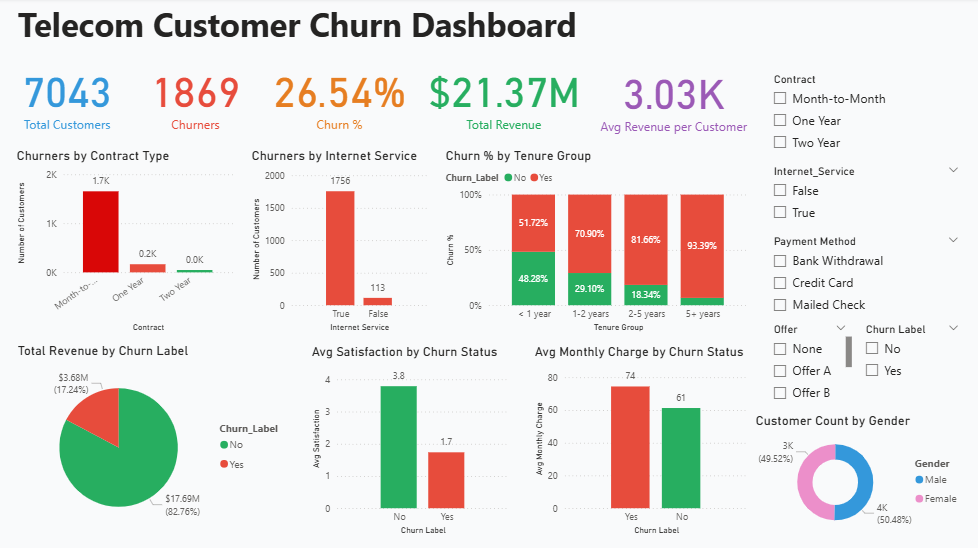

This screenshot's page, from the dashboard's own definition file:
{"tool":"powerbi","page":{"name":"Page 1","canvas":[1280,720],"ordinal":0},"visuals":[{"type":"card","fields":{"Values":["telco.Total Customers"]},"box":[16.5,77.1,141.8,99.1],"z":0},{"type":"card","fields":{"Values":["telco.Churners"]},"box":[176.2,77.1,158.3,100.5],"z":1000},{"type":"card","fields":{"Values":["telco.Churn %"]},"box":[351,77.1,187.2,99.1],"z":2000},{"type":"card","fields":{"Values":["telco.Total Revenue"]},"box":[551.9,77.1,214.7,100.5],"z":3000},{"type":"card","fields":{"Values":["telco.Avg Revenue per Customer"]},"box":[780.4,77.1,203.7,106],"z":4000},{"type":"clusteredColumnChart","title":"Churners by Contract Type","fields":{"Category":["telco.Contract"],"Y":["telco.Churners"]},"box":[17,196.4,293.2,244.8],"z":5000},{"type":"clusteredColumnChart","title":"Churners by Internet Service","fields":{"Category":["telco.Internet_Service"],"Y":["telco.Churners"]},"box":[324.7,196.4,239.6,244.8],"z":6000},{"type":"hundredPercentStackedColumnChart","title":"Churn % by Tenure Group","fields":{"Y":["telco.Churn %"],"Category":["telco.Tenure Group"],"Series":["telco.Churn_Label"]},"box":[578.6,196.4,405.8,244.8],"z":7000},{"type":"pieChart","title":"Total Revenue by Churn Label","fields":{"Category":["telco.Churn_Label"],"Y":["telco.Total Revenue"]},"box":[17.9,451.4,368.9,254.6],"z":8000},{"type":"clusteredColumnChart","title":"Avg Satisfaction by Churn Status","fields":{"Category":["telco.Churn_Label"],"Y":["telco.Avg Satisfaction"]},"box":[403.2,452.9,268.4,254],"z":9000},{"type":"clusteredColumnChart","title":"Avg Monthly Charge by Churn Status","fields":{"Category":["telco.Churn_Label"],"Y":["telco.Avg Monthly Charge"]},"box":[695.1,452.9,289.3,254],"z":10000},{"type":"donutChart","fields":{"Category":["telco.Gender"],"Y":["telco.Customer Count"]},"box":[984.4,543.3,284.1,162.3],"z":11000},{"type":"slicer","fields":{"Values":["telco.Contract"]},"box":[1000.1,92.9,267.1,120.4],"z":12000},{"type":"slicer","fields":{"Values":["telco.Internet_Service"]},"box":[1000.1,213.4,267.1,91.6],"z":13000},{"type":"slicer","fields":{"Values":["telco.Payment_Method"]},"box":[1000.6,305.5,267,114.2],"z":14000},{"type":"slicer","fields":{"Values":["telco.Offer"]},"box":[1000.6,419.8,119.7,111.5],"z":15000},{"type":"textbox","box":[18.3,0,1248.9,77.2],"z":16000},{"type":"slicer","fields":{"Values":["telco.Churn_Label"]},"box":[1120.6,420.2,146.6,111.3],"z":17000}]}

Visuals, with their boxes in screenshot pixels (x1, y1, x2, y2), scaled from the page's 1280x720 canvas onto the 978x548 screenshot:
card - telco.Total Customers: <box>13,59,121,134</box>
card - telco.Churners: <box>135,59,256,135</box>
card - telco.Churn %: <box>268,59,411,134</box>
card - telco.Total Revenue: <box>422,59,586,135</box>
card - telco.Avg Revenue per Customer: <box>596,59,752,139</box>
"Churners by Contract Type" clusteredColumnChart: <box>13,149,237,336</box>
"Churners by Internet Service" clusteredColumnChart: <box>248,149,431,336</box>
"Churn % by Tenure Group" hundredPercentStackedColumnChart: <box>442,149,752,336</box>
"Total Revenue by Churn Label" pieChart: <box>14,344,296,537</box>
"Avg Satisfaction by Churn Status" clusteredColumnChart: <box>308,345,513,538</box>
"Avg Monthly Charge by Churn Status" clusteredColumnChart: <box>531,345,752,538</box>
donutChart - telco.Gender x telco.Customer Count: <box>752,414,969,537</box>
slicer - telco.Contract: <box>764,71,968,162</box>
slicer - telco.Internet_Service: <box>764,162,968,232</box>
slicer - telco.Payment_Method: <box>765,233,969,319</box>
slicer - telco.Offer: <box>765,320,856,404</box>
textbox: <box>14,0,968,59</box>
slicer - telco.Churn_Label: <box>856,320,968,405</box>
